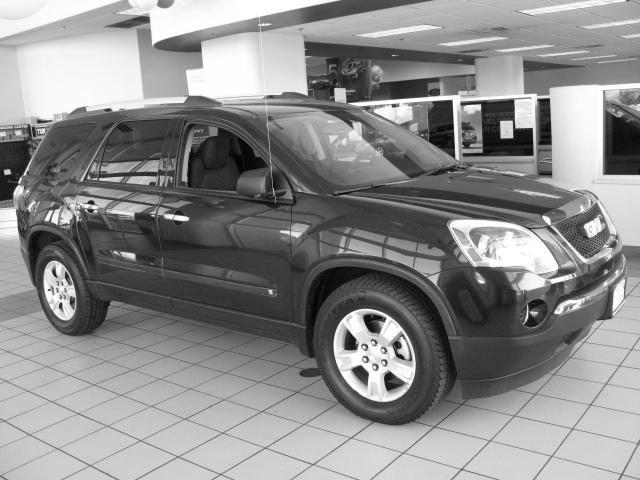car: (12, 90, 624, 423)
